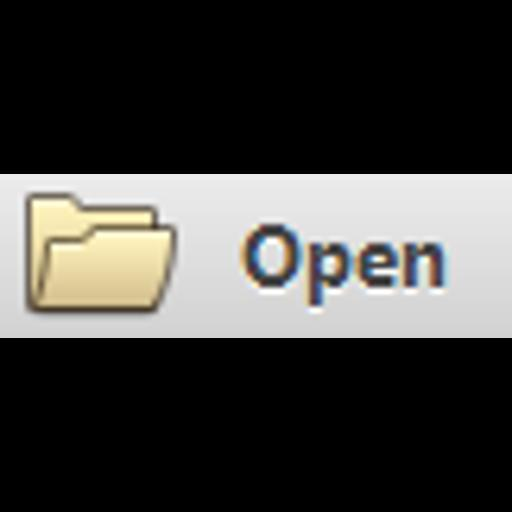Adobe: (0, 174, 512, 338)
